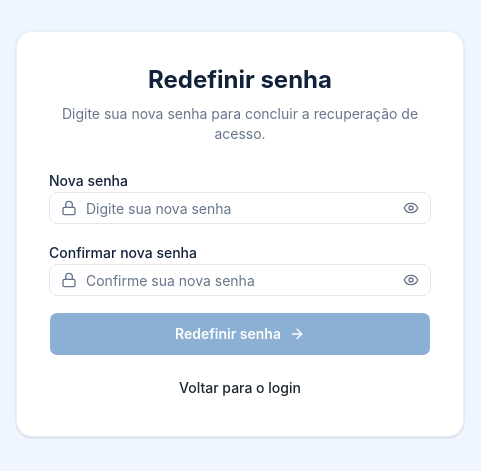
Scenario: PasswordReset › mostra erro genérico quando a mutation rejeita algo que não é Error
Type "12345678" into the password field with placeholder "Digite sua nova senha" at (240, 208), box [49,192,431,224]
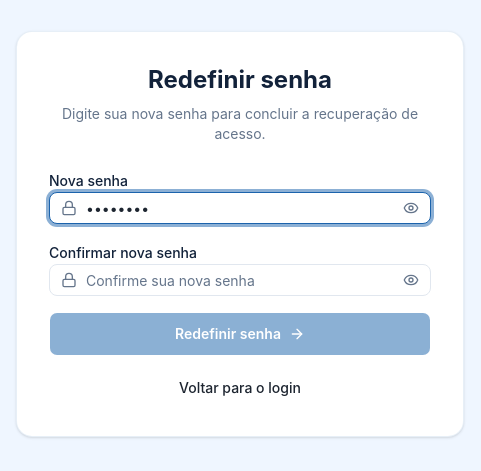
Type "12345678" into the password field with placeholder "Confirme sua nova senha" at (240, 280), box [49,264,431,296]
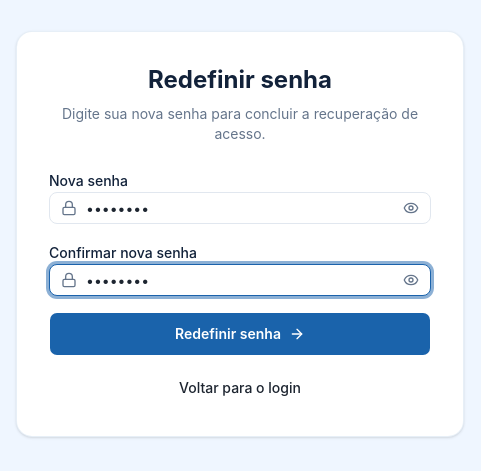
Click the button "Redefinir senha" at (240, 334), box [49,312,431,356]
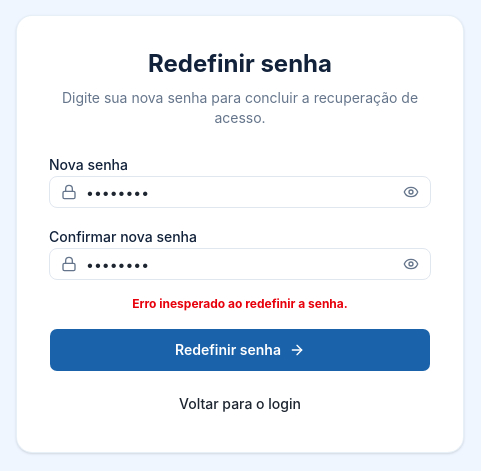
Now the text "Erro inesperado ao redefinir a senha." is shown, box [132,296,348,311]
